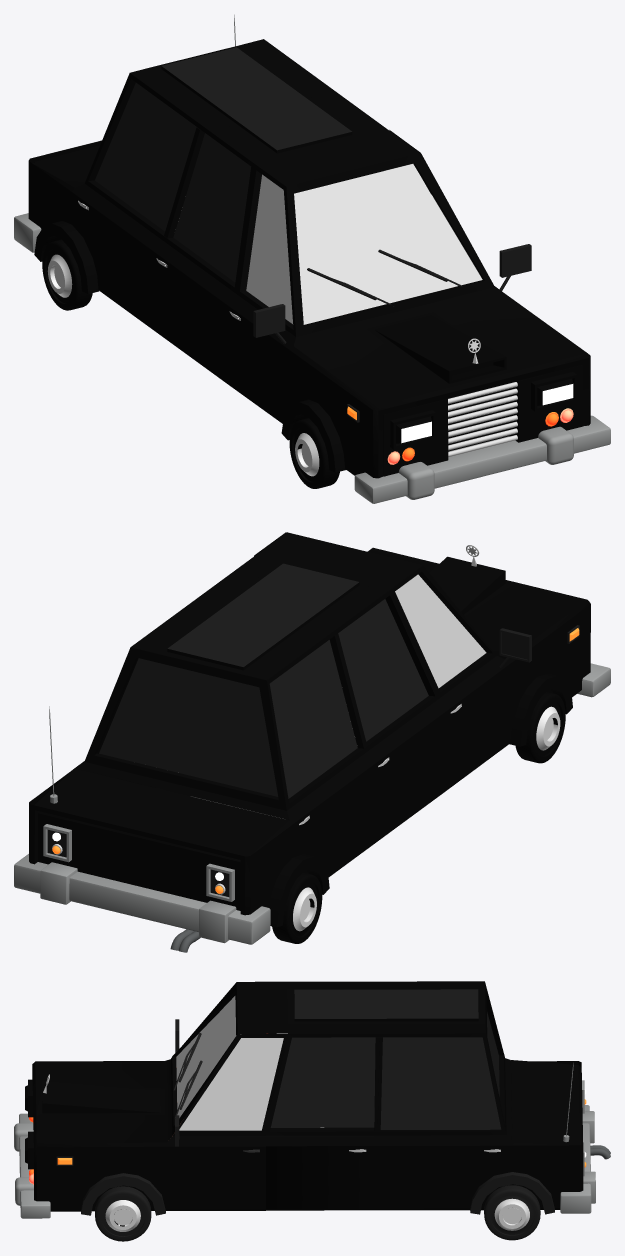
Rendered from limo1.glb.
3 renders of one model, top to bottom at view 1: azimuth 30°, elevation 25°; view 2: azimuth 150°, elevation 25°; view 3: azimuth 270°, elevation 25°, orthographic. The views are drawn at different scales.
Visible parts, largest first — view 1: Cube, Cube_4, Sweep_1, Cylinder, Cloner_1, Cube.002, Cube_1, Cube_8, Cube.001, Cylinder_3.015, Cube_5, Cube_10; view 2: Cube, Cube.002, Cube_5, Sweep_1, Cylinder, Cube_6_2, Cube_6_3, Cube_4, Cylinder_3.013; view 3: Cube, Cube.001, Cube.002, Sweep, Cylinder_2, Cube_4, Cube_5, Cube_10.
Part boxes in pixels (bbox=[...]): Cube: bbox=[28, 39, 590, 478]; Cube_4: bbox=[354, 415, 610, 503]; Sweep_1: bbox=[34, 221, 98, 310]; Cylinder: bbox=[281, 399, 345, 488]; Cloner_1: bbox=[448, 382, 517, 456]; Cube.002: bbox=[32, 14, 235, 191]; Cube_1: bbox=[531, 372, 577, 411]; Cube_8: bbox=[390, 410, 435, 449]; Cube.001: bbox=[389, 130, 531, 291]; Cylinder_3.015: bbox=[253, 304, 285, 337]; Cube_5: bbox=[14, 213, 41, 252]; Cube_10: bbox=[307, 249, 462, 306]; Cube: bbox=[29, 532, 590, 915]; Cube.002: bbox=[34, 706, 292, 862]; Cube_5: bbox=[14, 854, 270, 944]; Sweep_1: bbox=[268, 854, 329, 943]; Cylinder: bbox=[509, 673, 572, 763]; Cube_6_2: bbox=[206, 863, 234, 901]; Cube_6_3: bbox=[43, 824, 71, 862]; Cube_4: bbox=[577, 663, 610, 697]; Cylinder_3.013: bbox=[501, 632, 527, 660]; Cube: bbox=[32, 981, 583, 1211]; Cube.001: bbox=[167, 1034, 288, 1210]; Cube.002: bbox=[510, 1060, 580, 1145]; Sweep: bbox=[470, 1172, 554, 1240]; Cylinder_2: bbox=[81, 1173, 165, 1241]; Cube_4: bbox=[14, 1113, 50, 1218]; Cube_5: bbox=[560, 1105, 595, 1213]; Cube_10: bbox=[173, 1033, 202, 1117].
Size of the model in its own units: 2.52 by 2.08 by 5.94.
16 materials, 4 textured.
